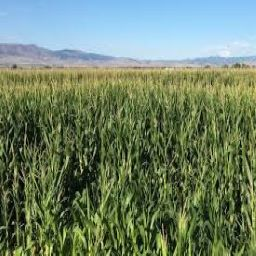grass: (1, 68, 252, 252)
